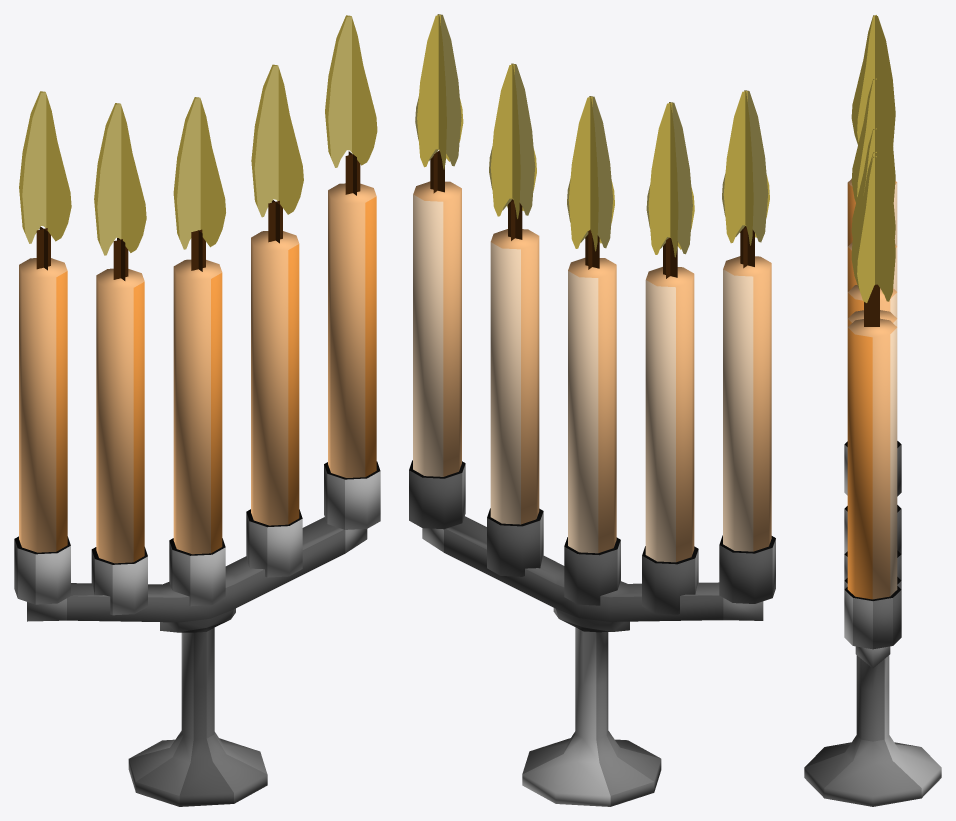
The model's file is candle_338x03.gltf.
The picture shows the model from 3 angles, left to right: view 1: azimuth 30°, elevation 25°; view 2: azimuth 150°, elevation 25°; view 3: azimuth 270°, elevation 25°; orthographic projection. The views are drawn at different scales.
Parts seen in each view (by area): view 1: candle_338x03; view 2: candle_338x03; view 3: candle_338x03.
Part boxes in pixels (<box>): candle_338x03: <box>14,15,380,806</box>; candle_338x03: <box>409,14,775,806</box>; candle_338x03: <box>804,15,941,806</box>.
Bounding box in the file's own units: 0.6974 × 1.34 × 0.2414.
1 material, 1 textured.
